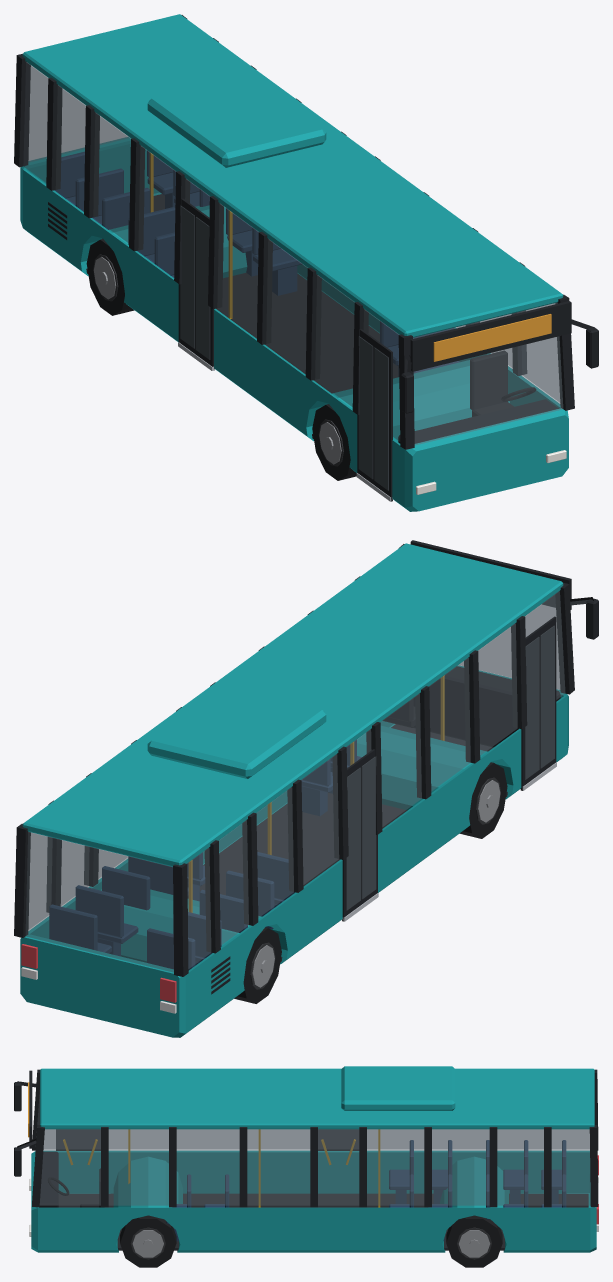
The model's file is bus.glb.
3 renders of one model, top to bottom at view 1: azimuth 30°, elevation 25°; view 2: azimuth 150°, elevation 25°; view 3: azimuth 270°, elevation 25°, orthographic. The views are drawn at different scales.
Visible parts, largest first — view 1: Details, Cabin__Glass, Body__Shell, Bus_Door, Cabin__Seat__2D4A6A, Cabin__Floor__2B2E33, Cabin__Driver__1E2024, Wheel_RR, Wheel_FR, Cabin__Dash__1B1D22; view 2: Details, Cabin__Glass, Body__Shell, Cabin__Seat__2D4A6A, Bus_Door, Cabin__Floor__2B2E33, Cabin__Dash__1B1D22, Wheel_RR, Wheel_FR, Lamps; view 3: Details, Body__Shell, Cabin__Glass, Cabin__Seat__2D4A6A, Cabin__Floor__2B2E33, Wheel_RL, Wheel_FL, Bus_Door, Cabin__Dash__1B1D22.
Part boxes in pixels (left/top/right/bottom): Details: left=14, top=14, right=598, bottom=449; Cabin__Glass: left=23, top=62, right=563, bottom=445; Body__Shell: left=20, top=137, right=568, bottom=511; Bus_Door: left=178, top=198, right=392, bottom=501; Cabin__Seat__2D4A6A: left=54, top=150, right=459, bottom=376; Cabin__Floor__2B2E33: left=86, top=194, right=398, bottom=439; Cabin__Driver__1E2024: left=470, top=350, right=513, bottom=416; Wheel_RR: left=86, top=239, right=134, bottom=315; Wheel_FR: left=312, top=404, right=356, bottom=480; Cabin__Dash__1B1D22: left=398, top=399, right=558, bottom=443; Details: left=14, top=540, right=598, bottom=994; Cabin__Glass: left=25, top=591, right=565, bottom=972; Body__Shell: left=20, top=665, right=568, bottom=1037; Cabin__Seat__2D4A6A: left=49, top=739, right=361, bottom=970; Bus_Door: left=342, top=616, right=556, bottom=921; Cabin__Floor__2B2E33: left=199, top=724, right=507, bottom=962; Cabin__Dash__1B1D22: left=413, top=666, right=560, bottom=747; Wheel_RR: left=234, top=927, right=281, bottom=1003; Wheel_FR: left=460, top=762, right=507, bottom=838; Lamps: left=21, top=944, right=176, bottom=1013; Details: left=14, top=1066, right=598, bottom=1207; Body__Shell: left=31, top=1150, right=596, bottom=1252; Cabin__Glass: left=35, top=1090, right=590, bottom=1205; Cabin__Seat__2D4A6A: left=166, top=1140, right=566, bottom=1241; Cabin__Floor__2B2E33: left=58, top=1193, right=588, bottom=1250; Wheel_RL: left=446, top=1215, right=502, bottom=1267; Wheel_FL: left=120, top=1215, right=176, bottom=1267; Bus_Door: left=56, top=1129, right=359, bottom=1164; Cabin__Dash__1B1D22: left=39, top=1151, right=58, bottom=1207.
Size of the model in its own units: 0.277 by 0.296 by 1.
8 materials, 4 textured.
